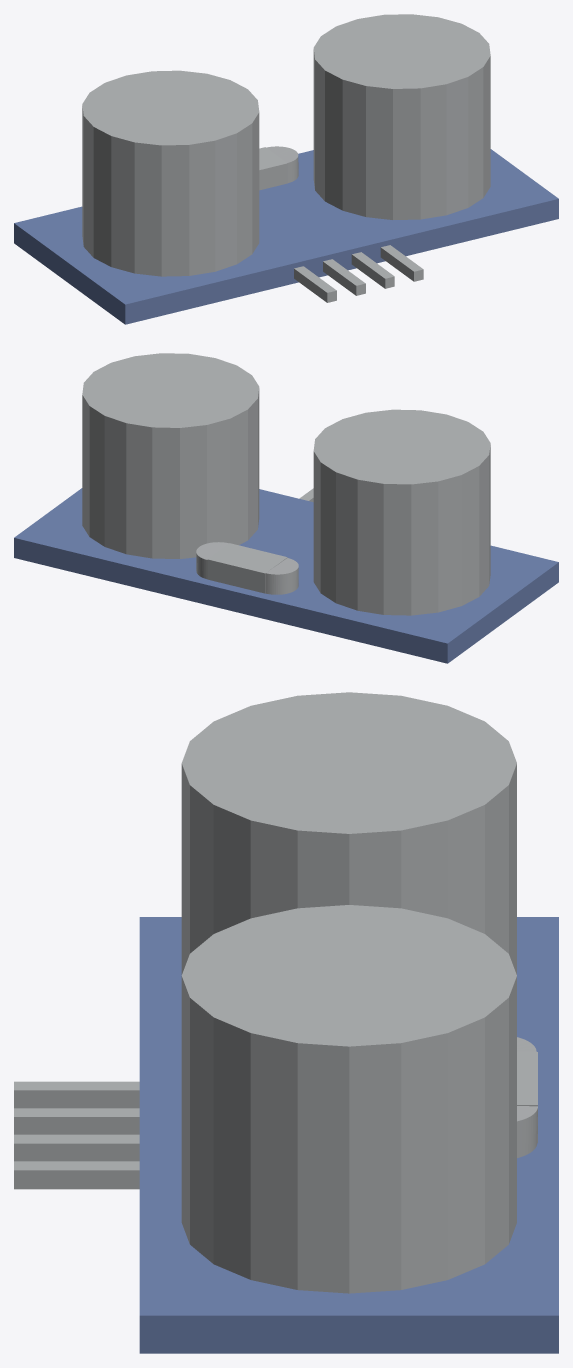
Rendered from Ultrasone.glb.
3 renders of one model, top to bottom at view 1: azimuth 30°, elevation 25°; view 2: azimuth 150°, elevation 25°; view 3: azimuth 270°, elevation 25°, orthographic. The views are drawn at different scales.
Parts seen in each view (by area): view 1: Mesh_Mesh_head_geo.001_lambert2SG.001; view 2: Mesh_Mesh_head_geo.001_lambert2SG.001; view 3: Mesh_Mesh_head_geo.001_lambert2SG.001.
Boxes of the visible parts, left/top/right/bottom form: Mesh_Mesh_head_geo.001_lambert2SG.001: left=14, top=14, right=558, bottom=324; Mesh_Mesh_head_geo.001_lambert2SG.001: left=14, top=353, right=558, bottom=663; Mesh_Mesh_head_geo.001_lambert2SG.001: left=14, top=692, right=558, bottom=1353.
Bounding box in the file's own units: 45 × 15 × 26.
